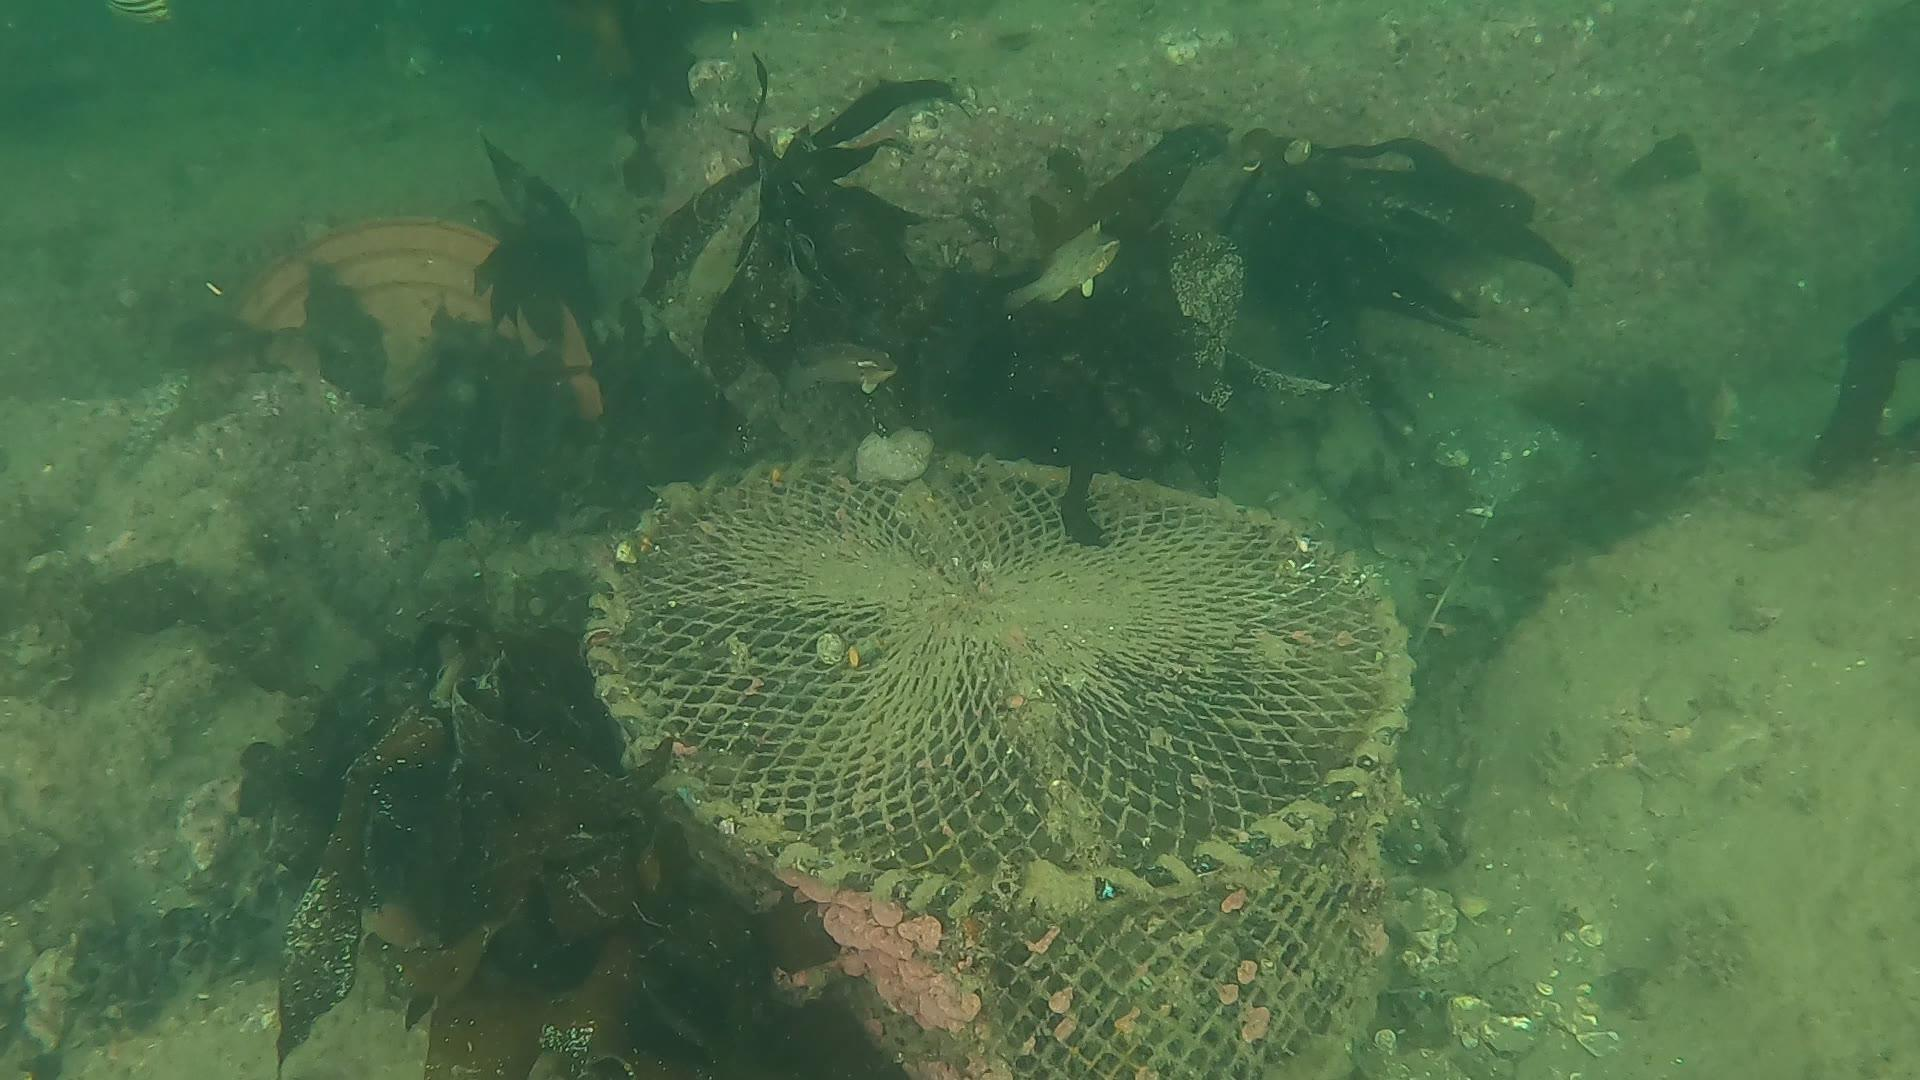circular fish trap: (576, 438, 1419, 1080)
